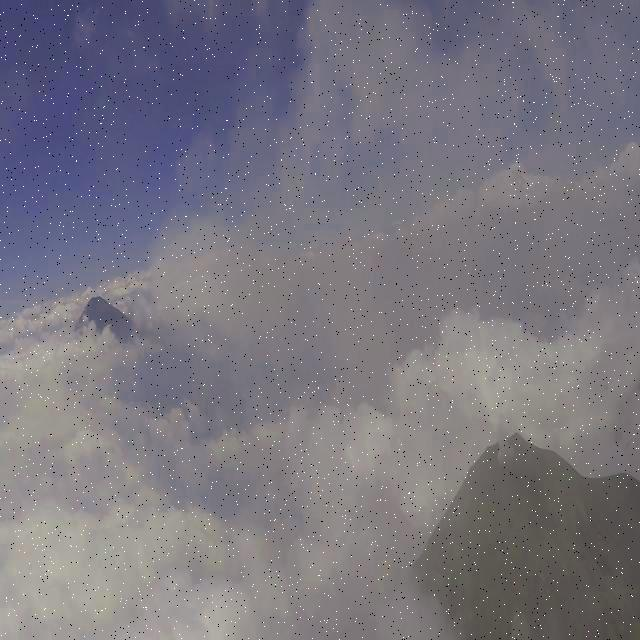Summit: (363, 398, 640, 640)
